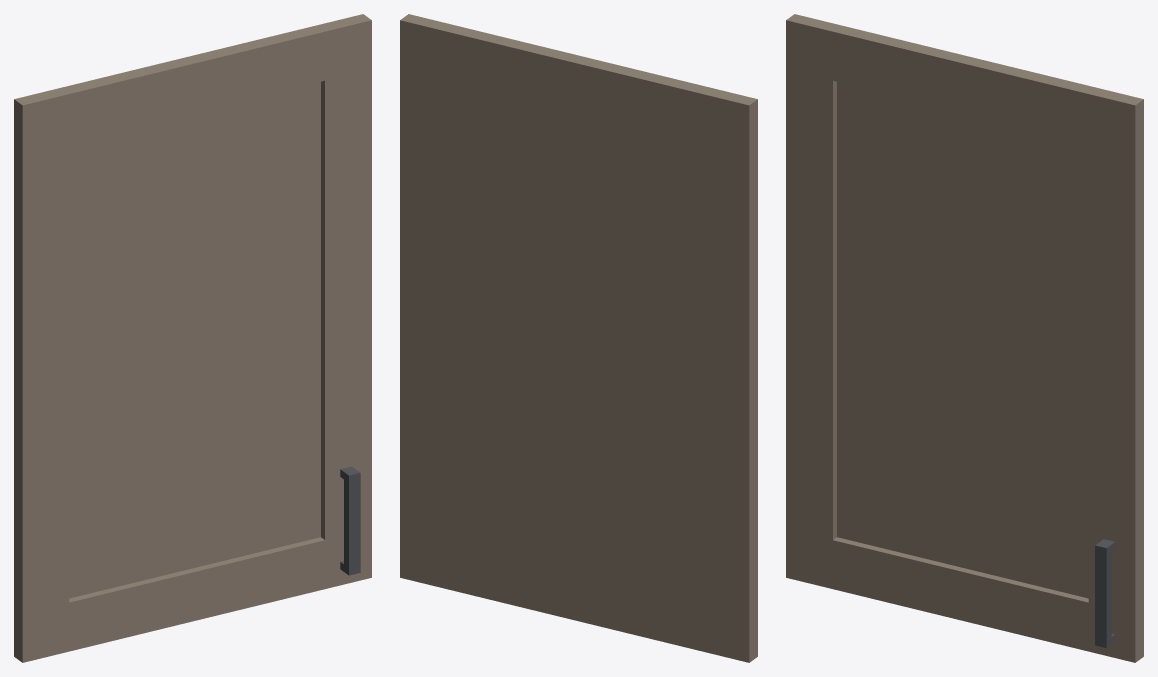
File: Door2_C5_12.fbx
3 renders of one model, left to right at view 1: azimuth 30°, elevation 25°; view 2: azimuth 150°, elevation 25°; view 3: azimuth 330°, elevation 25°, orthographic.
Parts seen in each view (by area): view 1: Door2_C5_12; view 2: Door2_C5_12; view 3: Door2_C5_12.
Boxes of the visible parts, box(x1,y1,x2,y2) form: Door2_C5_12: box(14, 14, 371, 662); Door2_C5_12: box(400, 14, 757, 662); Door2_C5_12: box(786, 14, 1143, 662).
Size of the model in its own units: 59 by 90 by 5.03.
